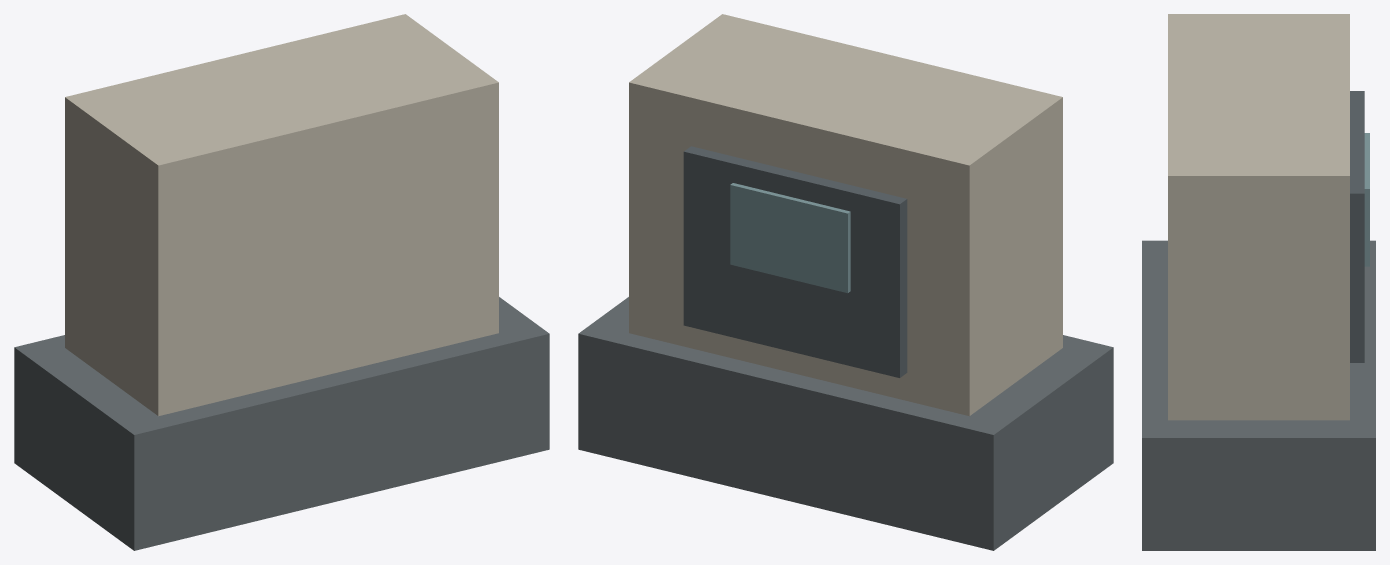
File: iz3_health_sink_01.glb
The picture shows the model from 3 angles, left to right: view 1: azimuth 30°, elevation 25°; view 2: azimuth 150°, elevation 25°; view 3: azimuth 270°, elevation 25°; orthographic projection. The views are drawn at different scales.
Parts seen in each view (by area): view 1: cabinet, base; view 2: cabinet, base, panel, display; view 3: cabinet, base, panel, display.
Boxes of the visible parts, x1,y1,x2,y2 form: cabinet: [65, 14, 498, 416]; base: [14, 297, 549, 550]; cabinet: [629, 14, 1062, 416]; base: [578, 297, 1113, 550]; panel: [683, 146, 907, 377]; display: [730, 183, 850, 293]; cabinet: [1168, 14, 1349, 420]; base: [1142, 240, 1375, 550]; panel: [1350, 91, 1364, 362]; display: [1364, 133, 1369, 266].
Size of the model in its own units: 1.2 by 1.01 by 0.6.
